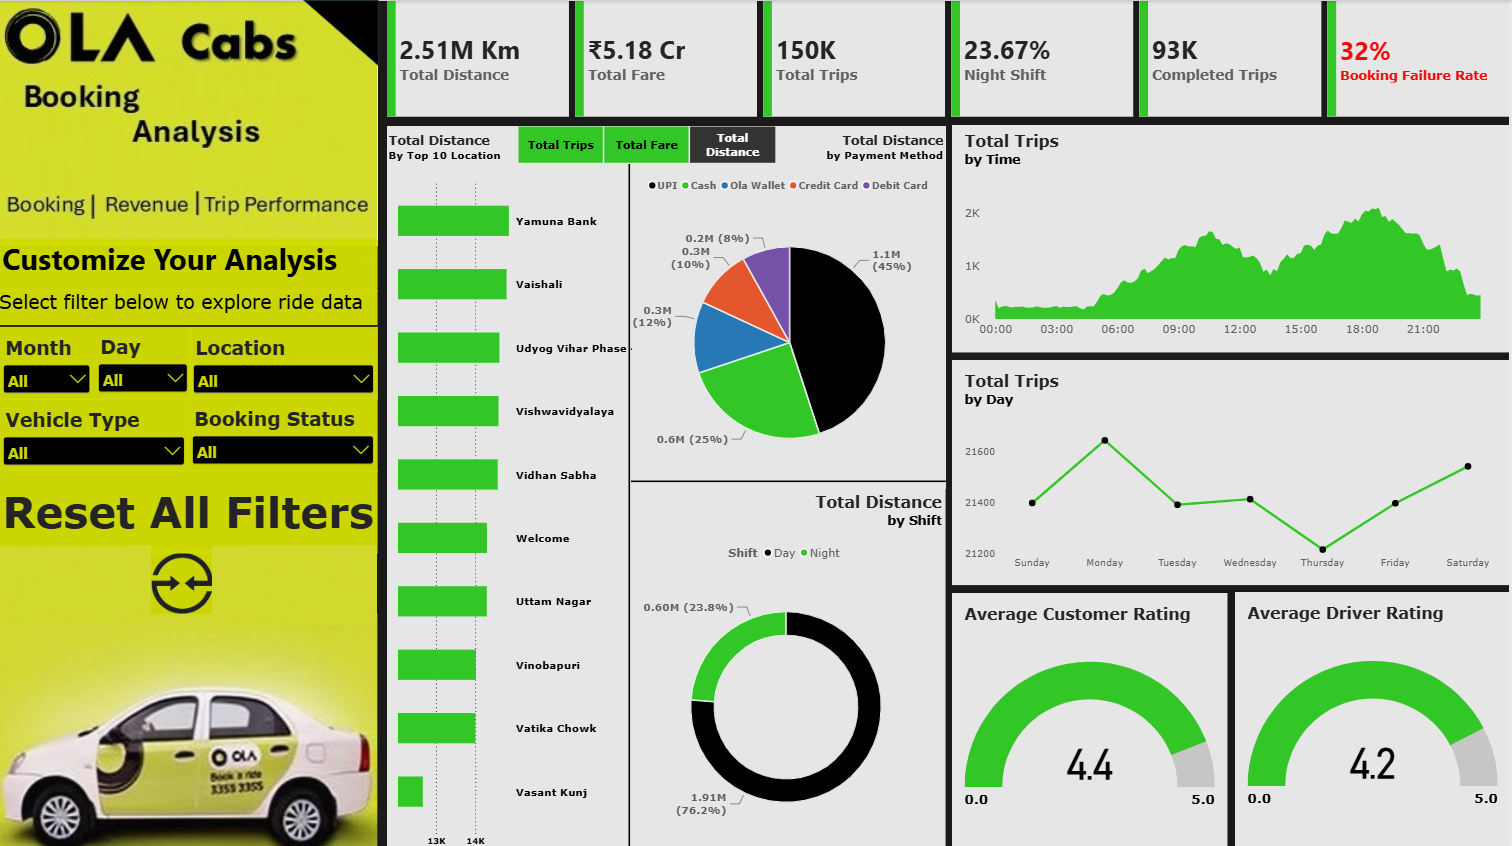

This screenshot's page, from the dashboard's own definition file:
{"tool":"powerbi","page":{"name":"Overview","canvas":[1920,1080],"ordinal":0},"visuals":[{"type":"barChart","fields":{"Category":["OlaCabs.Drop Location"],"Y":["OlaCabs.Total Distance"]},"box":[492.9,160,322.9,920],"z":0,"group":"g1"},{"type":"cardVisual","fields":{"Data":["OlaCabs.Total Distance","OlaCabs.Total Fare1","OlaCabs.Total Trips","OlaCabs.Night Shift %","OlaCabs.Completed Trip","OlaCabs.Booking Failure Rate %"]},"box":[492.9,0,1427.1,148.6],"z":1000,"group":"g1"},{"type":"pieChart","fields":{"Category":["OlaCabs.Payment Method"],"Y":["OlaCabs.Total Distance"]},"box":[804.3,160,398.6,461.4],"z":2000,"group":"g1"},{"type":"pieChart","fields":{"Category":["OlaCabs.Shift"],"Y":["OlaCabs.Total Distance"]},"box":[801.3,617.3,401.3,462.7],"z":3000,"group":"g1"},{"type":"lineChart","title":"Total Trips","fields":{"Category":["DateTable.Day Name"],"Y":["OlaCabs.Total Trips"]},"box":[1211.4,457.1,708.6,285.7],"z":5000,"group":"g1"},{"type":"areaChart","title":"Total Trips","fields":{"Category":["OlaCabs.Pickup Time Rounded"],"Y":["OlaCabs.Total Trips"]},"box":[1211.4,158.6,708.6,288.6],"z":6000,"group":"g1"},{"type":"image","box":[192,697,83,87.1],"z":8000,"group":"g1"},{"type":"textbox","box":[0,597.2,481,105.6],"z":9000,"group":"g1"},{"type":"image","box":[0,0,481,312.7],"z":10000,"group":"g1"},{"type":"image","box":[0,780,480.8,299.2],"z":11000,"group":"g1"},{"type":"slicer","fields":{"Values":["OlaCabs.Drop Location"]},"box":[241.4,414.3,240,92.9],"z":12000,"group":"g1"},{"type":"slicer","fields":{"Values":["OlaCabs.Vehicle Type"]},"box":[0,505.7,241.4,92.9],"z":13000,"group":"g1"},{"type":"slicer","fields":{"Values":["DateTable.Day Name"]},"box":[120.3,412.9,124.3,94.9],"z":14000,"group":"g1"},{"type":"slicer","fields":{"Values":["DateTable.Month Short Name Plus Year"]},"box":[0,414.2,121,93.5],"z":15000,"group":"g1"},{"type":"image","box":[316.9,693.1,163.8,96.9],"z":16000,"group":"g1"},{"type":"image","box":[0,693.4,164.3,96.2],"z":17000,"group":"g1"},{"type":"slicer","fields":{"Values":["OlaCabs.Booking Status"]},"box":[240.5,505.1,240.5,94.9],"z":18000,"group":"g1"},{"type":"textbox","box":[0,303.3,481,66.8],"z":19000,"group":"g1"},{"type":"textbox","box":[0,368.6,481.4,45.7],"z":20000,"group":"g1"},{"type":"image","box":[271.2,693.4,58.8,96.2],"z":22000,"group":"g1"},{"type":"image","box":[162.9,692.9,31.4,97.1],"z":23000,"group":"g1"},{"type":"shape","box":[802.7,602.7,400,18.6],"z":26000,"group":"g1"},{"type":"shape","box":[0,402.9,481.4,22.9],"z":27000,"group":"g1"},{"type":"slicer","fields":{"Values":["Ola_Toggle.Ola_Toggle"]},"box":[638.6,158.6,365.7,50],"z":27500,"group":"g1"},{"type":"shape","box":[780.3,208.4,41.4,871.1],"z":28001,"group":"g1"},{"type":"gauge","title":"Average Customer Rating","fields":{"Y":["Avg(OlaCabs.Customer Rating)"]},"box":[1210.4,753.5,350,326.8],"z":28002,"group":"g1"},{"type":"gauge","title":"Average Driver Rating","fields":{"Y":["Avg(OlaCabs.Driver Ratings)"]},"box":[1569.9,752.2,350,327.1],"z":28003,"group":"g1"},{"type":"group","id":"g1","title":"Group 1","box":[0,0,1920,1080.3],"z":28004},{"type":"shape","box":[386.1,0,96.2,84.2],"z":28005}]}

Visuals, with their boxes in screenshot pixels (x1, y1, x2, y2), scaled from the page's 1920x1080 canvas onto the 1512x846 screenshot:
barChart - OlaCabs.Drop Location x OlaCabs.Total Distance: 388,125,642,845
cardVisual - OlaCabs.Total Distance x OlaCabs.Total Fare1: 388,0,1511,116
pieChart - OlaCabs.Payment Method x OlaCabs.Total Distance: 633,125,947,487
pieChart - OlaCabs.Shift x OlaCabs.Total Distance: 631,484,947,845
"Total Trips" lineChart: 954,358,1511,582
"Total Trips" areaChart: 954,124,1511,350
image: 151,546,217,614
textbox: 0,468,379,551
image: 0,0,379,245
image: 0,611,379,845
slicer - OlaCabs.Drop Location: 190,325,379,397
slicer - OlaCabs.Vehicle Type: 0,396,190,469
slicer - DateTable.Day Name: 95,323,193,398
slicer - DateTable.Month Short Name Plus Year: 0,324,95,398
image: 250,543,379,619
image: 0,543,129,619
slicer - OlaCabs.Booking Status: 189,396,379,470
textbox: 0,238,379,290
textbox: 0,289,379,325
image: 214,543,260,619
image: 128,543,153,619
shape: 632,472,947,487
shape: 0,316,379,334
slicer - Ola_Toggle.Ola_Toggle: 503,124,791,163
shape: 614,163,647,845
"Average Customer Rating" gauge: 953,590,1229,845
"Average Driver Rating" gauge: 1236,589,1511,845
"Group 1" group: 0,0,1511,845
shape: 304,0,380,66
